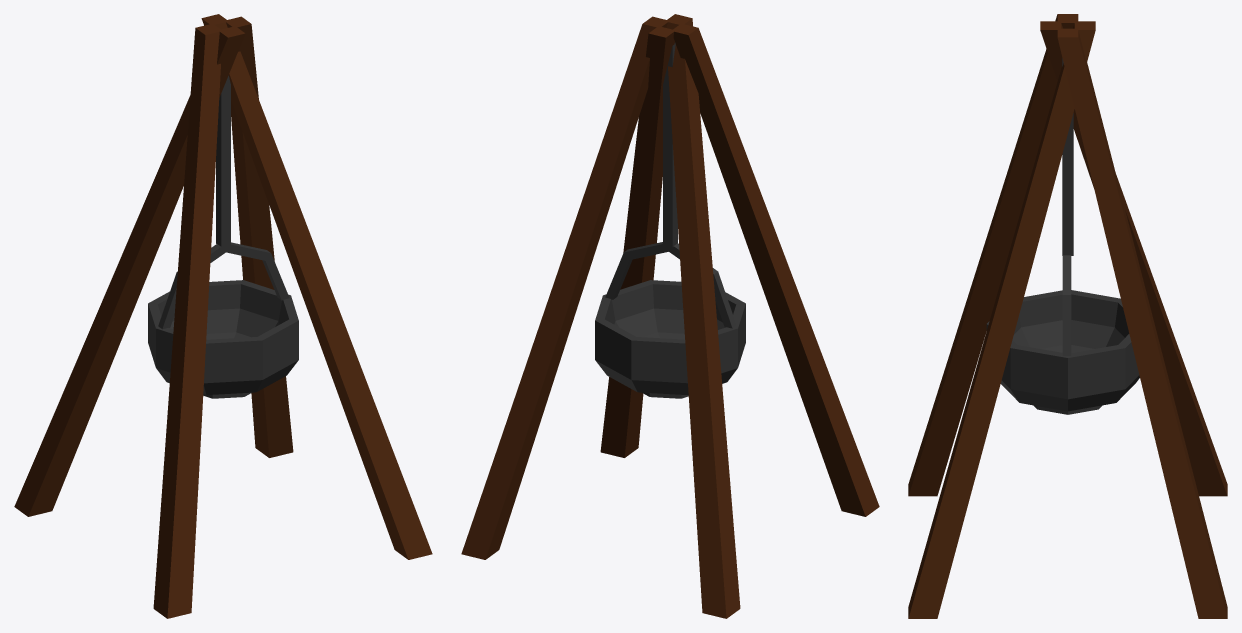
File: MBS_City_Fireplace.fbx
3 views of the same model, side by side, from view 1: azimuth 30°, elevation 25°; view 2: azimuth 150°, elevation 25°; view 3: azimuth 270°, elevation 25° (orthographic). The views are drawn at different scales.
Parts seen in each view (by area): view 1: Cube.601; view 2: Cube.601; view 3: Cube.601.
Part boxes in pixels (x1,y1,x2,y2): Cube.601: [14, 14, 432, 618]; Cube.601: [461, 14, 879, 618]; Cube.601: [908, 14, 1227, 618].
Bounding box in the file's own units: 220 × 400 × 220.
